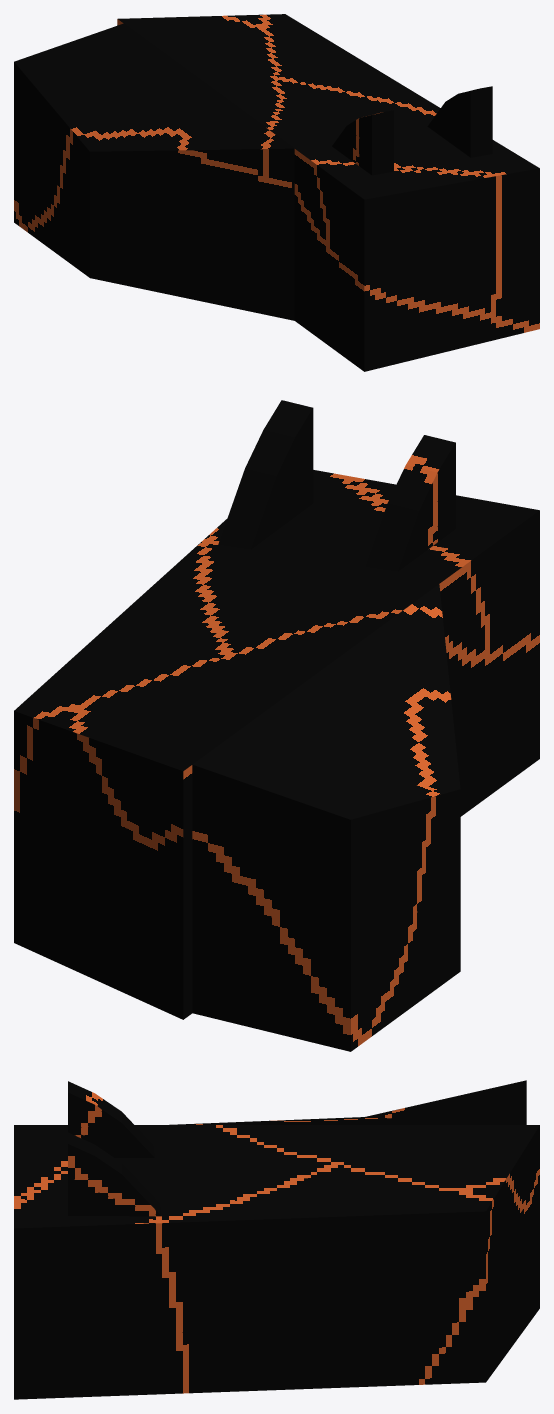
Rendered from planet_black.gltf.
The picture shows the model from 3 angles, top to bottom: view 1: azimuth 30°, elevation 25°; view 2: azimuth 150°, elevation 25°; view 3: azimuth 270°, elevation 25°; orthographic projection. The views are drawn at different scales.
Parts seen in each view (by area): view 1: mesh (×4); view 2: mesh (×4); view 3: mesh (×4).
Part boxes in pixels (x1=…): mesh (×4): x1=14, y1=14, x2=539, y2=371; mesh (×4): x1=14, y1=400, x2=539, y2=1051; mesh (×4): x1=14, y1=1080, x2=539, y2=1399.
Bounding box in the file's own units: 1.62 × 1.25 × 2.44.
Materials: 1 (1 with a texture image).
